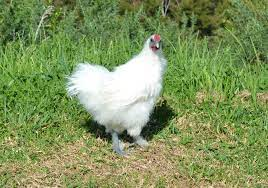Gà/Chicken: (52, 23, 198, 166)
